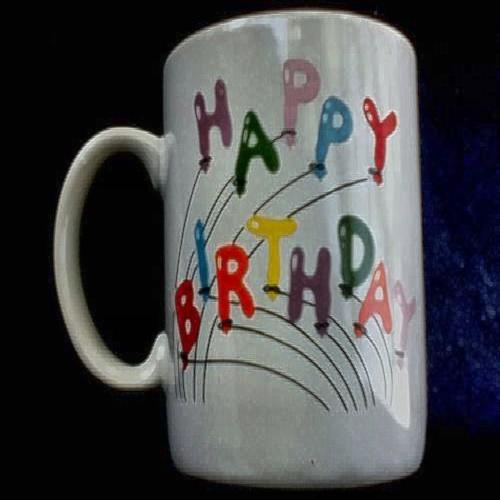mug: (121, 32, 437, 465)
